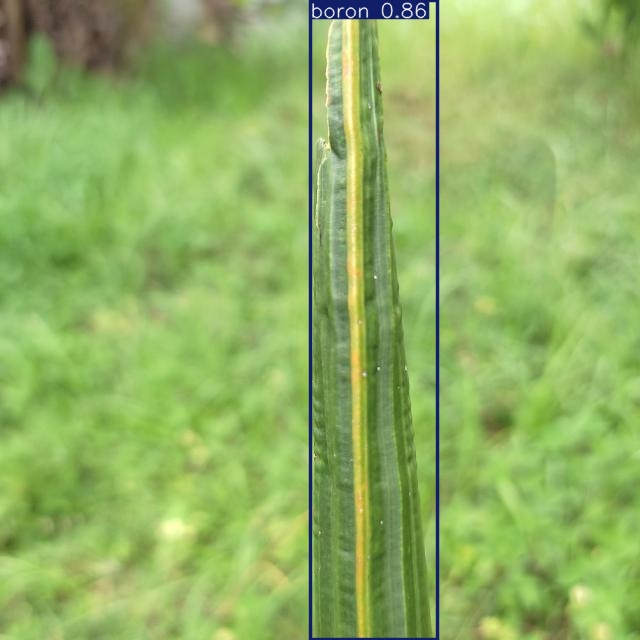nitrogen: (310, 0, 437, 640)
